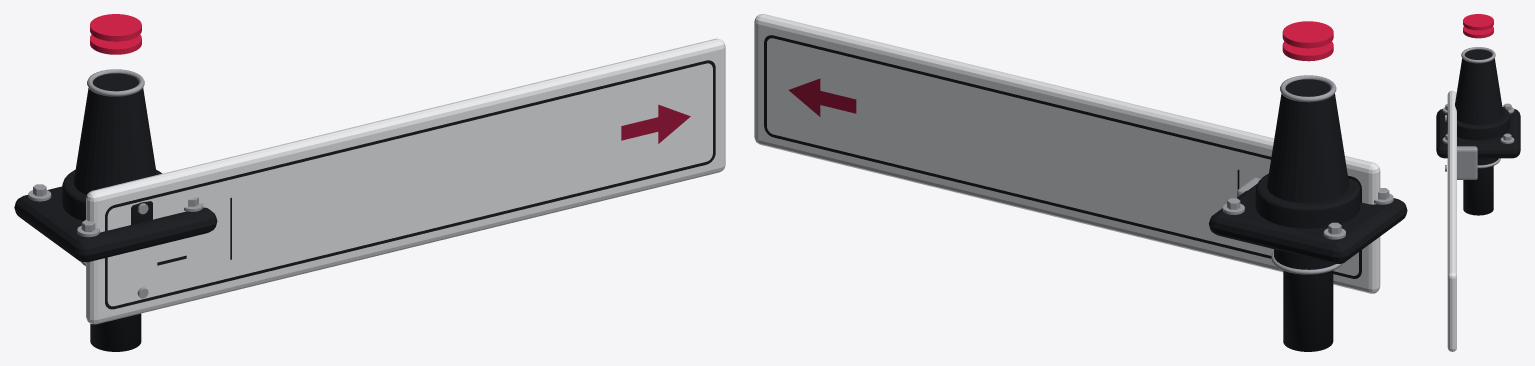
The model's file is signpost-parts.glb.
The picture shows the model from 3 angles, left to right: view 1: azimuth 30°, elevation 25°; view 2: azimuth 150°, elevation 25°; view 3: azimuth 270°, elevation 25°; orthographic projection. The views are drawn at different scales.
Visible parts, largest first — view 1: Board, Foot, Shaft; view 2: Board, Foot, Shaft, Mount; view 3: Foot, Board, Shaft, Mount.
Boxes of the visible parts, left/top/right/bottom form: Board: left=86, top=38, right=725, bottom=324; Foot: left=14, top=14, right=217, bottom=262; Shaft: left=90, top=313, right=141, bottom=351; Board: left=754, top=14, right=1380, bottom=293; Foot: left=1209, top=21, right=1407, bottom=264; Shaft: left=1283, top=271, right=1333, bottom=351; Mount: left=1237, top=177, right=1342, bottom=275; Foot: left=1436, top=14, right=1520, bottom=158; Board: left=1445, top=90, right=1456, bottom=351; Shaft: left=1463, top=166, right=1493, bottom=215; Mount: left=1457, top=146, right=1500, bottom=179.
Size of the model in its own units: 3.11 by 1.43 by 0.58.
